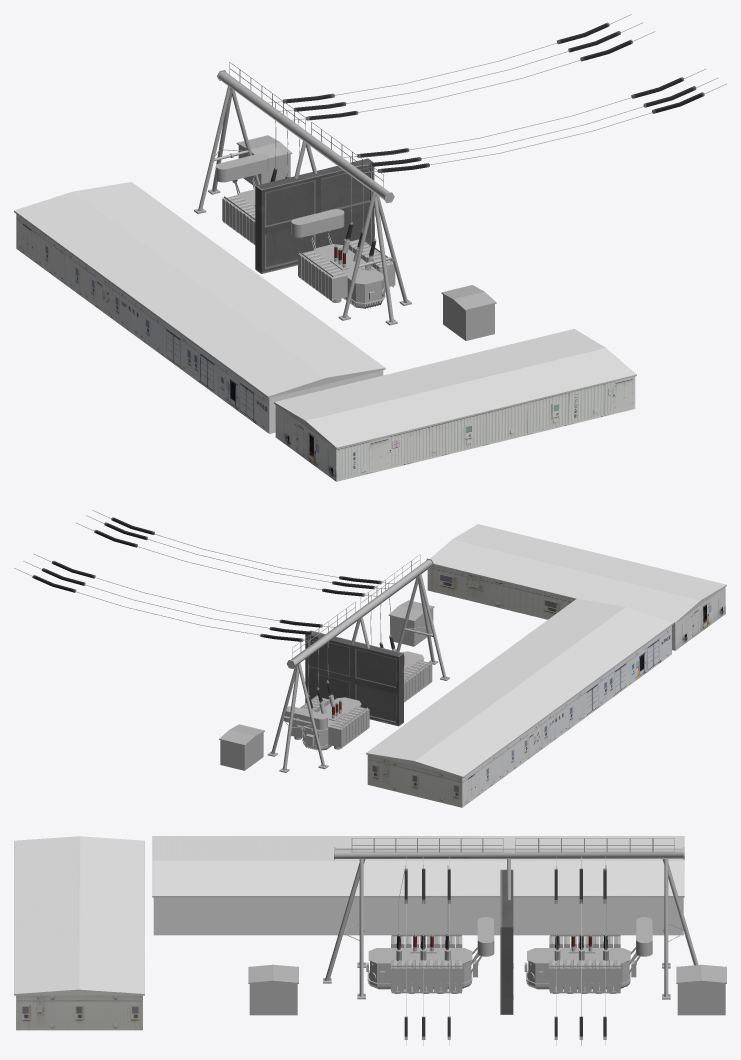
The picture shows the model from 3 angles, top to bottom: view 1: azimuth 30°, elevation 25°; view 2: azimuth 150°, elevation 25°; view 3: azimuth 270°, elevation 25°; orthographic projection. The views are drawn at different scales.
Parts seen in each view (by area): view 1: wqu - 副本.obj, 扫描, 立方体.3-6bd0902d0cb495dbc794969b231e80fb_origin(1), 立方体.1-zhengmian, 立方体.3-0e1d06135612159838440f3f8697359e_origin(1), 立方体.1; view 2: wqu - 副本.obj, 扫描, 立方体.1-zhengmian, 立方体.3-2fb069eaa22b3bcbe0e35d2c9a00d4_origin(1), 立方体.1-2fb069eaa22b3bcbe0e35d2c9a00d4_origin(1), 立方体.3-0e1d06135612159838440f3f8697359e_origin(1); view 3: wqu - 副本.obj, 扫描, 立方体.1, 立方体.3-2fb069eaa22b3bcbe0e35d2c9a00d4_origin(1).
Boxes of the visible parts, bbox=[...] form: wqu - 副本.obj: bbox=[14, 182, 636, 449]; 扫描: bbox=[194, 14, 726, 340]; 立方体.3-6bd0902d0cb495dbc794969b231e80fb_origin(1): bbox=[336, 376, 635, 481]; 立方体.1-zhengmian: bbox=[16, 214, 269, 433]; 立方体.3-0e1d06135612159838440f3f8697359e_origin(1): bbox=[275, 405, 336, 481]; 立方体.1: bbox=[269, 370, 383, 433]; wqu - 副本.obj: bbox=[366, 524, 726, 777]; 扫描: bbox=[14, 510, 449, 772]; 立方体.1-zhengmian: bbox=[462, 625, 671, 807]; 立方体.3-2fb069eaa22b3bcbe0e35d2c9a00d4_origin(1): bbox=[427, 565, 675, 650]; 立方体.1-2fb069eaa22b3bcbe0e35d2c9a00d4_origin(1): bbox=[367, 755, 462, 807]; 立方体.3-0e1d06135612159838440f3f8697359e_origin(1): bbox=[675, 587, 725, 650]; wqu - 副本.obj: bbox=[14, 836, 684, 995]; 扫描: bbox=[248, 838, 726, 1045]; 立方体.1: bbox=[153, 897, 683, 935]; 立方体.3-2fb069eaa22b3bcbe0e35d2c9a00d4_origin(1): bbox=[16, 995, 142, 1030].
Bounding box in the file's own units: 65.65 × 15.11 × 66.79.
Materials: 7 (7 with a texture image).
